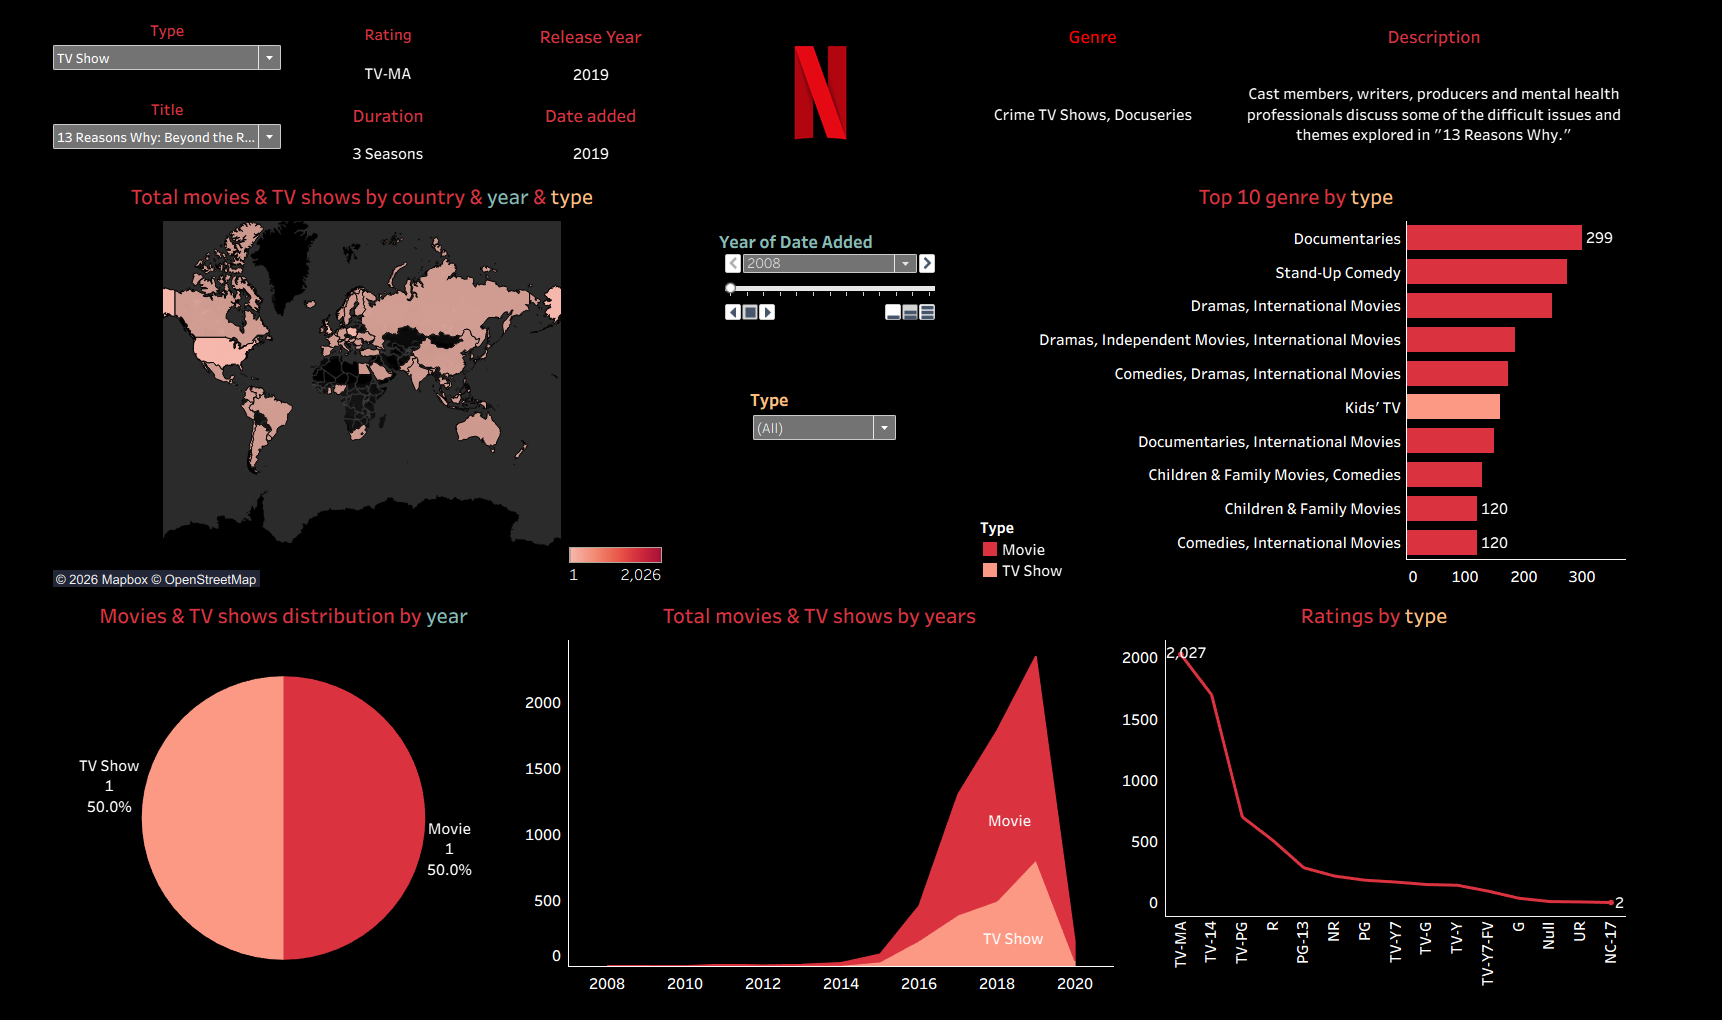

What the dashboard file says about the page in this screenshot:
{"tool":"tableau","page":{"name":"Dashboard","canvas":[1600,1000],"ordinal":0},"visuals":[{"type":"filter","title":"Rating","param":"[federated.0kpz3uu0o1shea19ru6pt1yp0e7u].[none:type:nk]","box":[8,8,242.4,79.4]},{"type":"worksheet","title":"Rating","mark":"Automatic","box":[250.4,8,199.8,79.4]},{"type":"worksheet","title":"Release Year","mark":"Automatic","box":[450.1,8,204.9,79.4]},{"type":"image","param":"Image/netflix-symbol-black.png","box":[655,8,254,158]},{"type":"worksheet","title":"Genre","mark":"Automatic","box":[909,8,291,158]},{"type":"worksheet","title":"Description","mark":"Automatic","box":[1200,8,392,158]},{"type":"filter","title":"Rating","param":"[federated.0kpz3uu0o1shea19ru6pt1yp0e7u].[none:title:nk]","box":[8,87.4,242.4,78.5]},{"type":"worksheet","title":"Duration","mark":"Automatic","box":[250.4,87.4,199.8,78.5]},{"type":"worksheet","title":"Date Added","mark":"Automatic","box":[450.1,87.4,204.9,78.5]},{"type":"worksheet","title":"Total movies & TV shows by country & type & year","mark":"Multipolygon","box":[8,166,632,419]},{"type":"worksheet","title":"Top 10 genre by type","mark":"Automatic","rows":["listed_in"],"cols":["show_id"],"box":[924,166,668,419]},{"type":"currpage","title":"Total movies & TV shows by country & type & year","box":[681,222,222,135]},{"type":"filter","title":"Total movies & TV shows by country & type & year","param":"[federated.0kpz3uu0o1shea19ru6pt1yp0e7u].[none:type:nk]","box":[712,380,149,70]},{"type":"legend","title":"Top 10 genre by type","param":"[federated.0kpz3uu0o1shea19ru6pt1yp0e7u].[none:type:nk]","box":[942,509,104,77]},{"type":"legend","title":"Total movies & TV shows by country & type & year","param":"[federated.0kpz3uu0o1shea19ru6pt1yp0e7u].[cum:ctd:show_id:qk:2]","box":[527,535,101,50]},{"type":"worksheet","title":"Movies & TV shows distribution by year","mark":"Pie","box":[8,585,475,407.1]},{"type":"worksheet","title":"Total movies & TV shows by years","mark":"Area","rows":["show_id"],"cols":["date_added"],"box":[483,585,597,407.1]},{"type":"worksheet","title":"Ratings by type","mark":"Line","rows":["show_id"],"cols":["rating"],"box":[1080,585,512,407.1]}]}

Visuals, with their boxes on the page's 1600x1000 design canvas (x1, y1, x2, y2). These are canvas units, not pixel positions in the 1722x1020 screenshot, which may show the page scaled, cropped or inside an application window:
"Rating" filter: 8,8,250,87
"Rating" worksheet: 250,8,450,87
"Release Year" worksheet: 450,8,655,87
image: 655,8,909,166
"Genre" worksheet: 909,8,1200,166
"Description" worksheet: 1200,8,1592,166
"Rating" filter: 8,87,250,166
"Duration" worksheet: 250,87,450,166
"Date Added" worksheet: 450,87,655,166
"Total movies & TV shows by country & type & year" worksheet (Multipolygon marks): 8,166,640,585
"Top 10 genre by type" worksheet: 924,166,1592,585
"Total movies & TV shows by country & type & year" currpage: 681,222,903,357
"Total movies & TV shows by country & type & year" filter: 712,380,861,450
"Top 10 genre by type" legend: 942,509,1046,586
"Total movies & TV shows by country & type & year" legend: 527,535,628,585
"Movies & TV shows distribution by year" worksheet (Pie marks): 8,585,483,992
"Total movies & TV shows by years" worksheet (Area marks): 483,585,1080,992
"Ratings by type" worksheet (Line marks): 1080,585,1592,992
